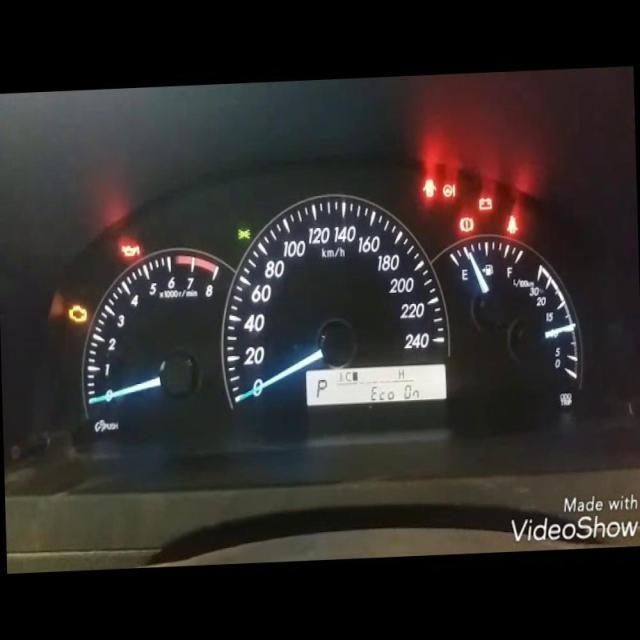Electronic Power Steering: (442, 184, 456, 199)
Seat Belt: (506, 214, 518, 234)
